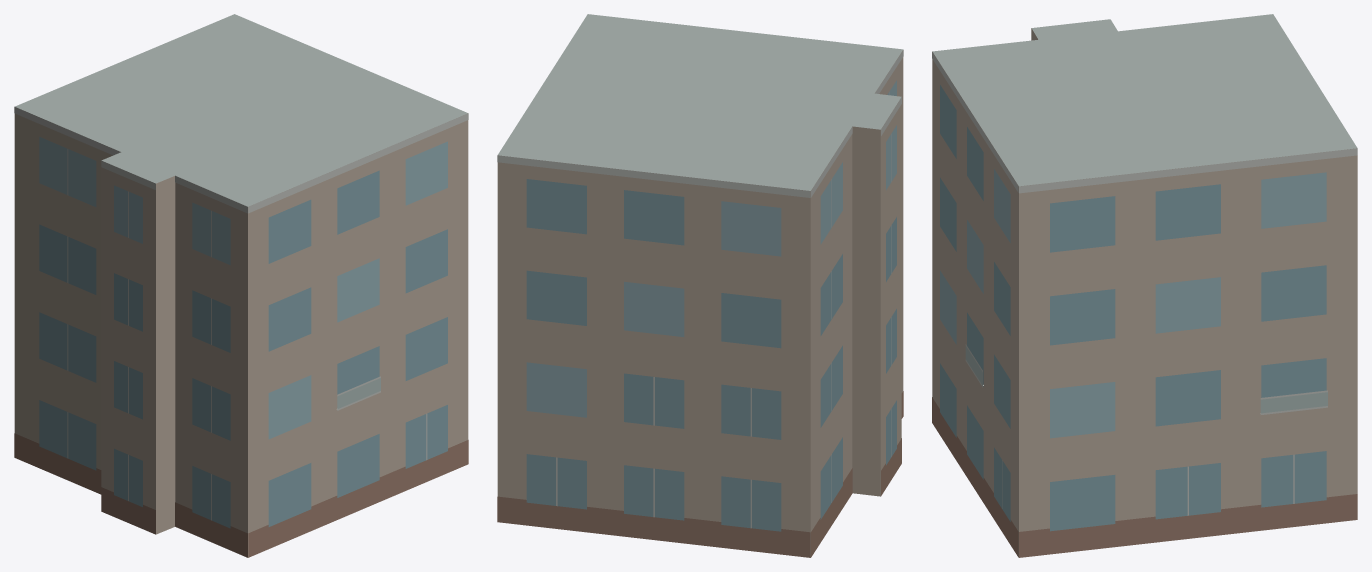
Rendered from survey-upis-32925226.glb.
The picture shows the model from 3 angles, left to right: view 1: azimuth 30°, elevation 25°; view 2: azimuth 150°, elevation 25°; view 3: azimuth 270°, elevation 25°; orthographic projection. The views are drawn at different scales.
Visible parts, largest first — view 1: survey-upis-32925226.tmp; view 2: survey-upis-32925226.tmp; view 3: survey-upis-32925226.tmp.
Part boxes in pixels (x1=…): survey-upis-32925226.tmp: x1=14, y1=14, x2=468, y2=557; survey-upis-32925226.tmp: x1=497, y1=14, x2=903, y2=557; survey-upis-32925226.tmp: x1=932, y1=14, x2=1357, y2=557.
Bounding box in the file's own units: 12.64 × 12.7 × 13.19.
